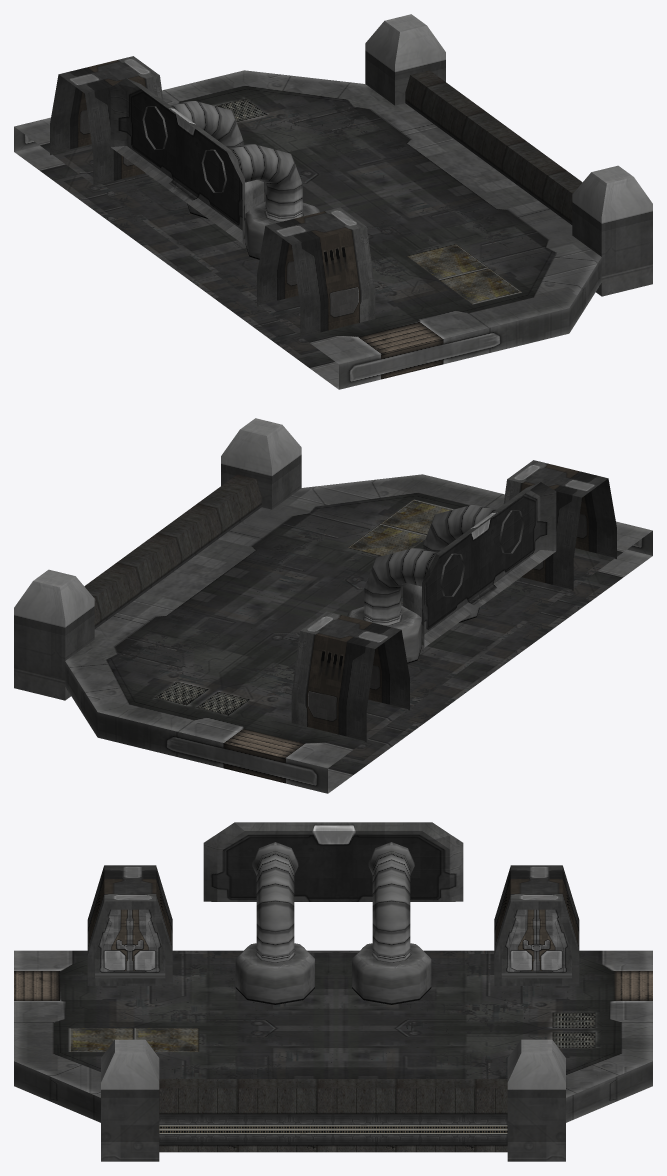
The model's file is doodad_urbancliff2.fbx.
The picture shows the model from 3 angles, top to bottom: view 1: azimuth 30°, elevation 25°; view 2: azimuth 150°, elevation 25°; view 3: azimuth 270°, elevation 25°; orthographic projection.
Parts seen in each view (by area): view 1: polySurface6; view 2: polySurface6; view 3: polySurface6.
Boxes of the visible parts, x1,y1,x2,y2 form: polySurface6: (14, 14, 652, 389); polySurface6: (14, 418, 652, 793); polySurface6: (14, 822, 652, 1161).
Bounding box in the file's own units: 14.05 × 6.35 × 22.
Materials: 1 (1 with a texture image).
